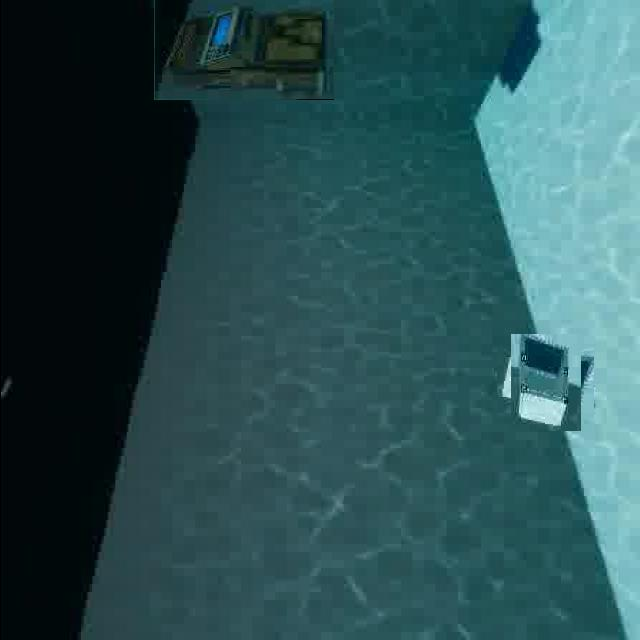Control Panel: (153, 0, 333, 100)
Docking Station: (502, 340, 586, 424)
